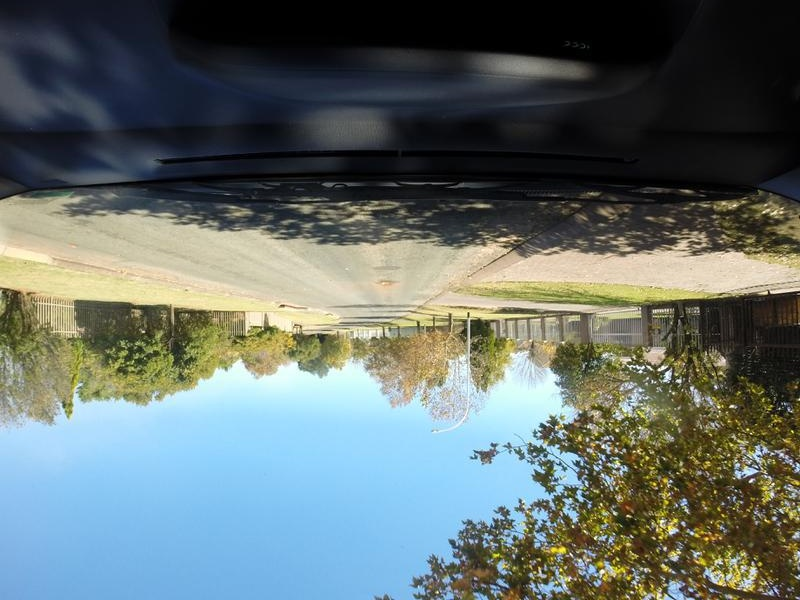pothole: (366, 270, 402, 293)
